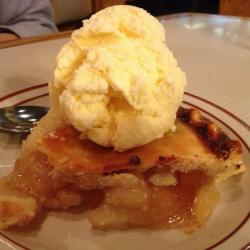apple_pie: (8, 103, 247, 233)
icecream: (46, 3, 196, 153)
